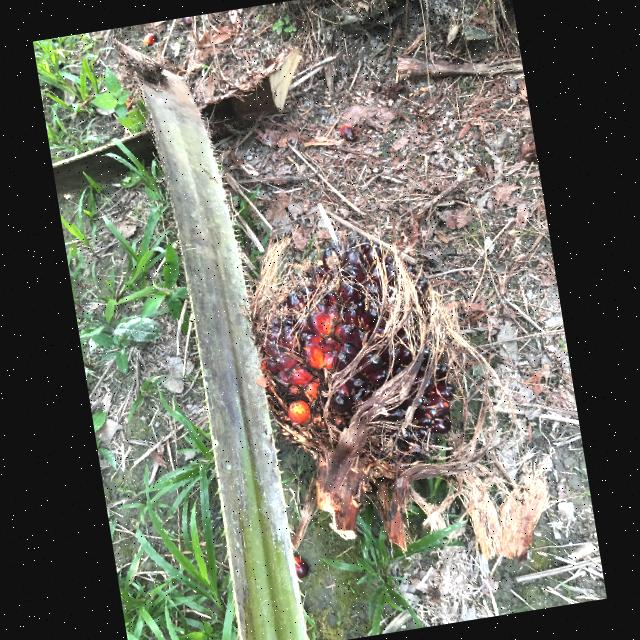Ripe: (257, 242, 462, 467)
